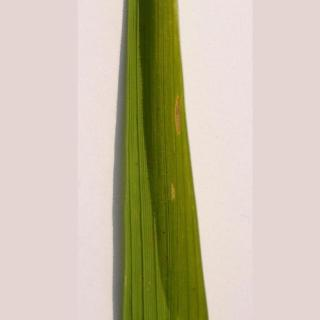Hawar-Daun: (158, 79, 194, 148), (164, 172, 202, 208)
